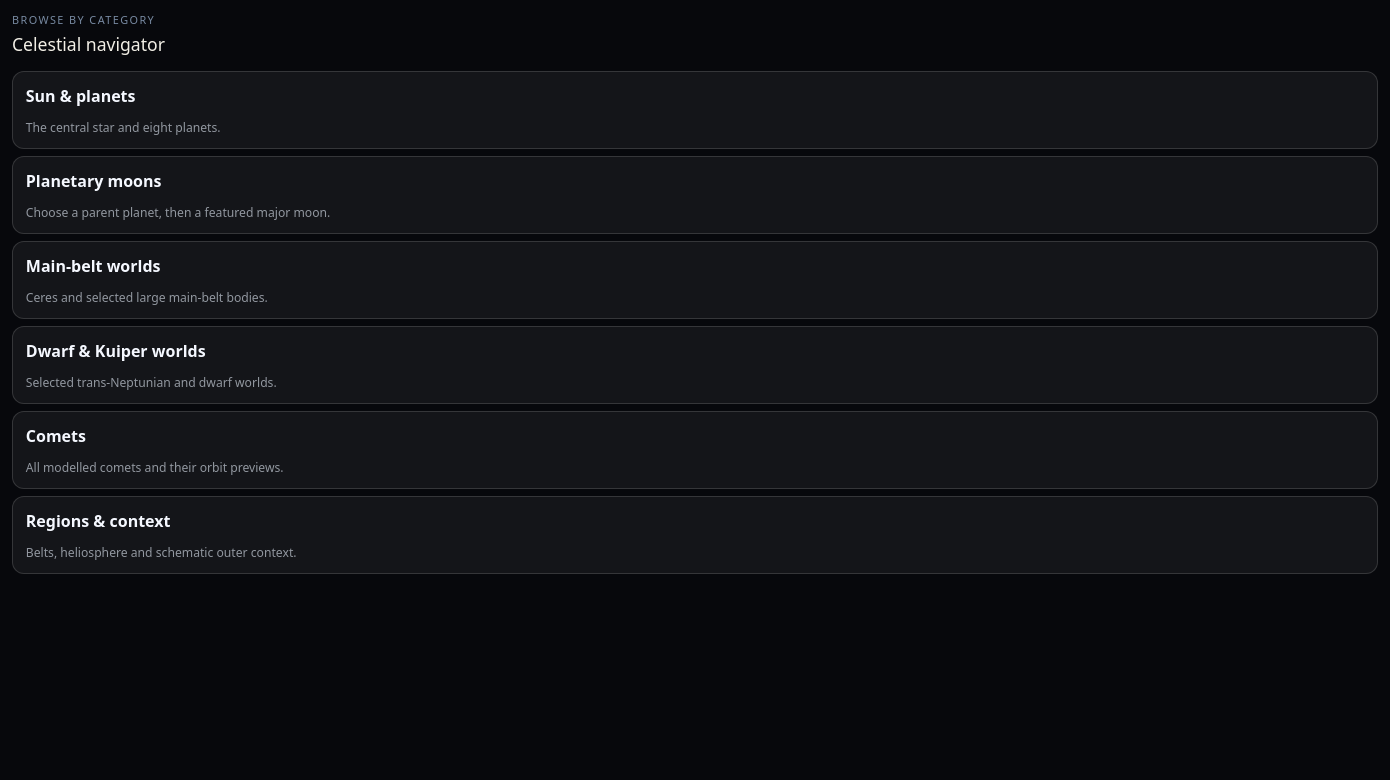
CelestialNavigator › shows only the four Regions & context navigation targets
The width and height of the screenshot is (1390, 780).
Click the button "Regions & context" at (98, 521), box [12,496,1378,574]
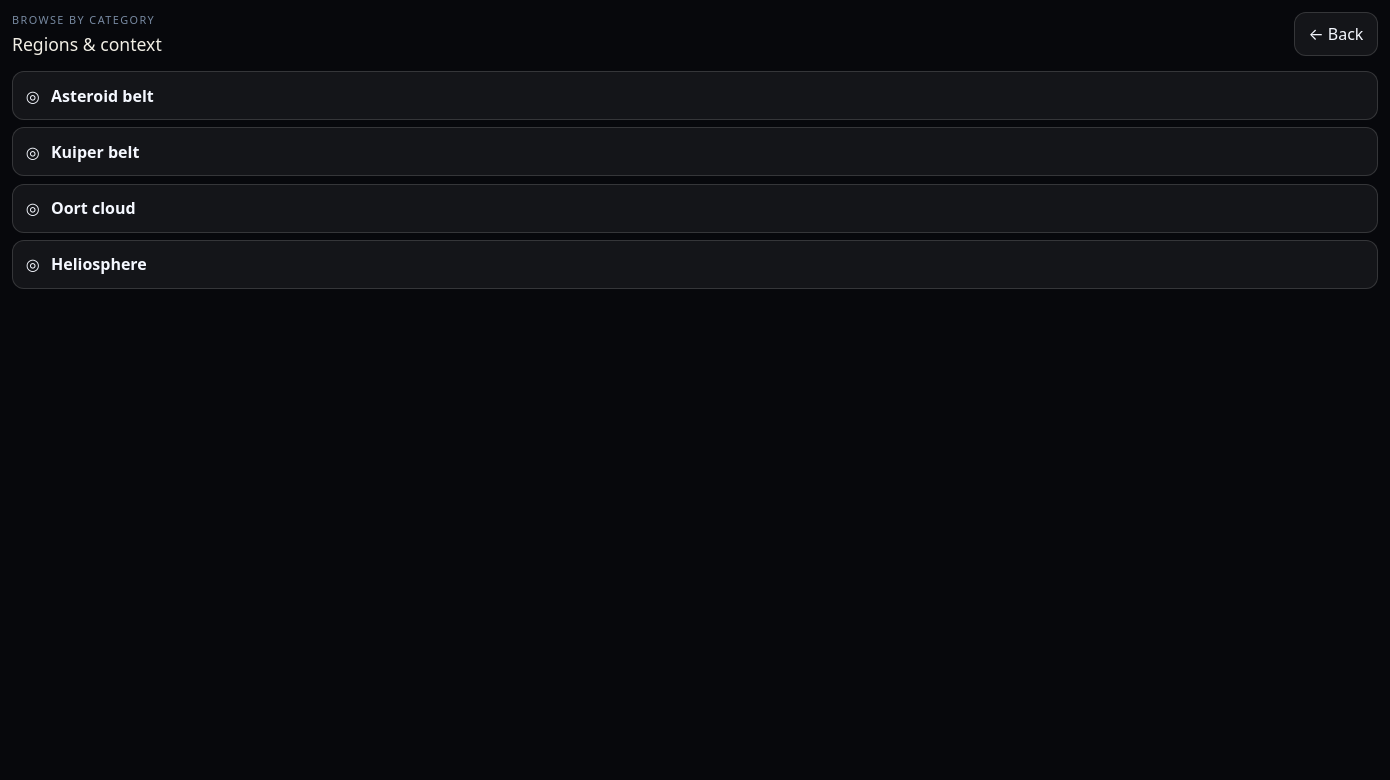
Expected: the button "◎ Asteroid belt" is shown, [12,71,1378,120]
Expected: the button "◎ Kuiper belt" is shown, [12,127,1378,176]
Expected: the button "◎ Oort cloud" is shown, [12,184,1378,233]
